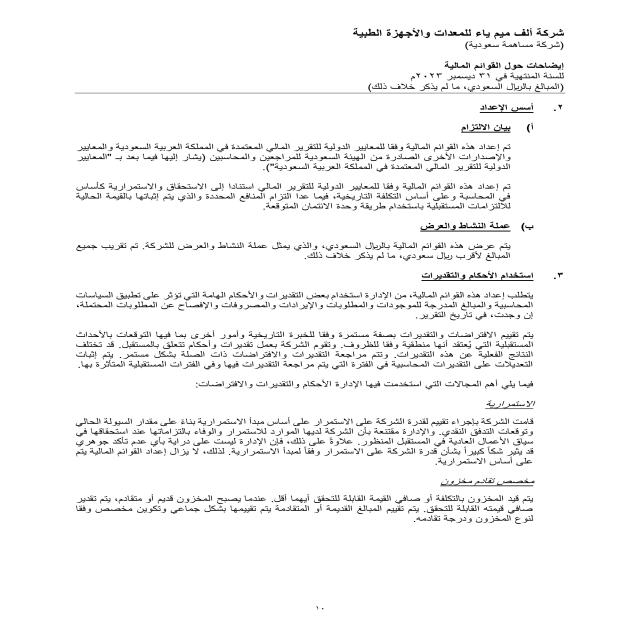notes: (434, 60, 582, 72)
text: (34, 100, 561, 558)
